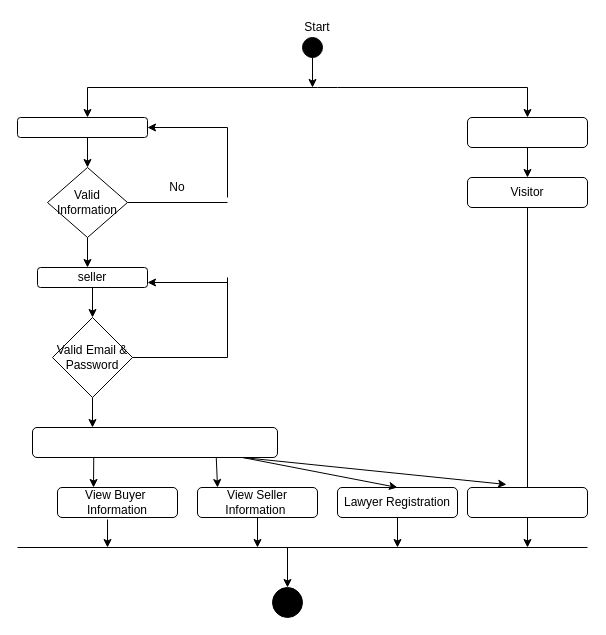
The diagram is 606 pixels wide and 635 high, and some of its shapes have lost their labels. The shapes that lost their labels are listed below. From the top down, each one's centre as x and y in pixels, then its label:
point 82,127: User Registration
point 527,132: With Out Login
point 155,442: seller page
point 527,502: User Search Option
